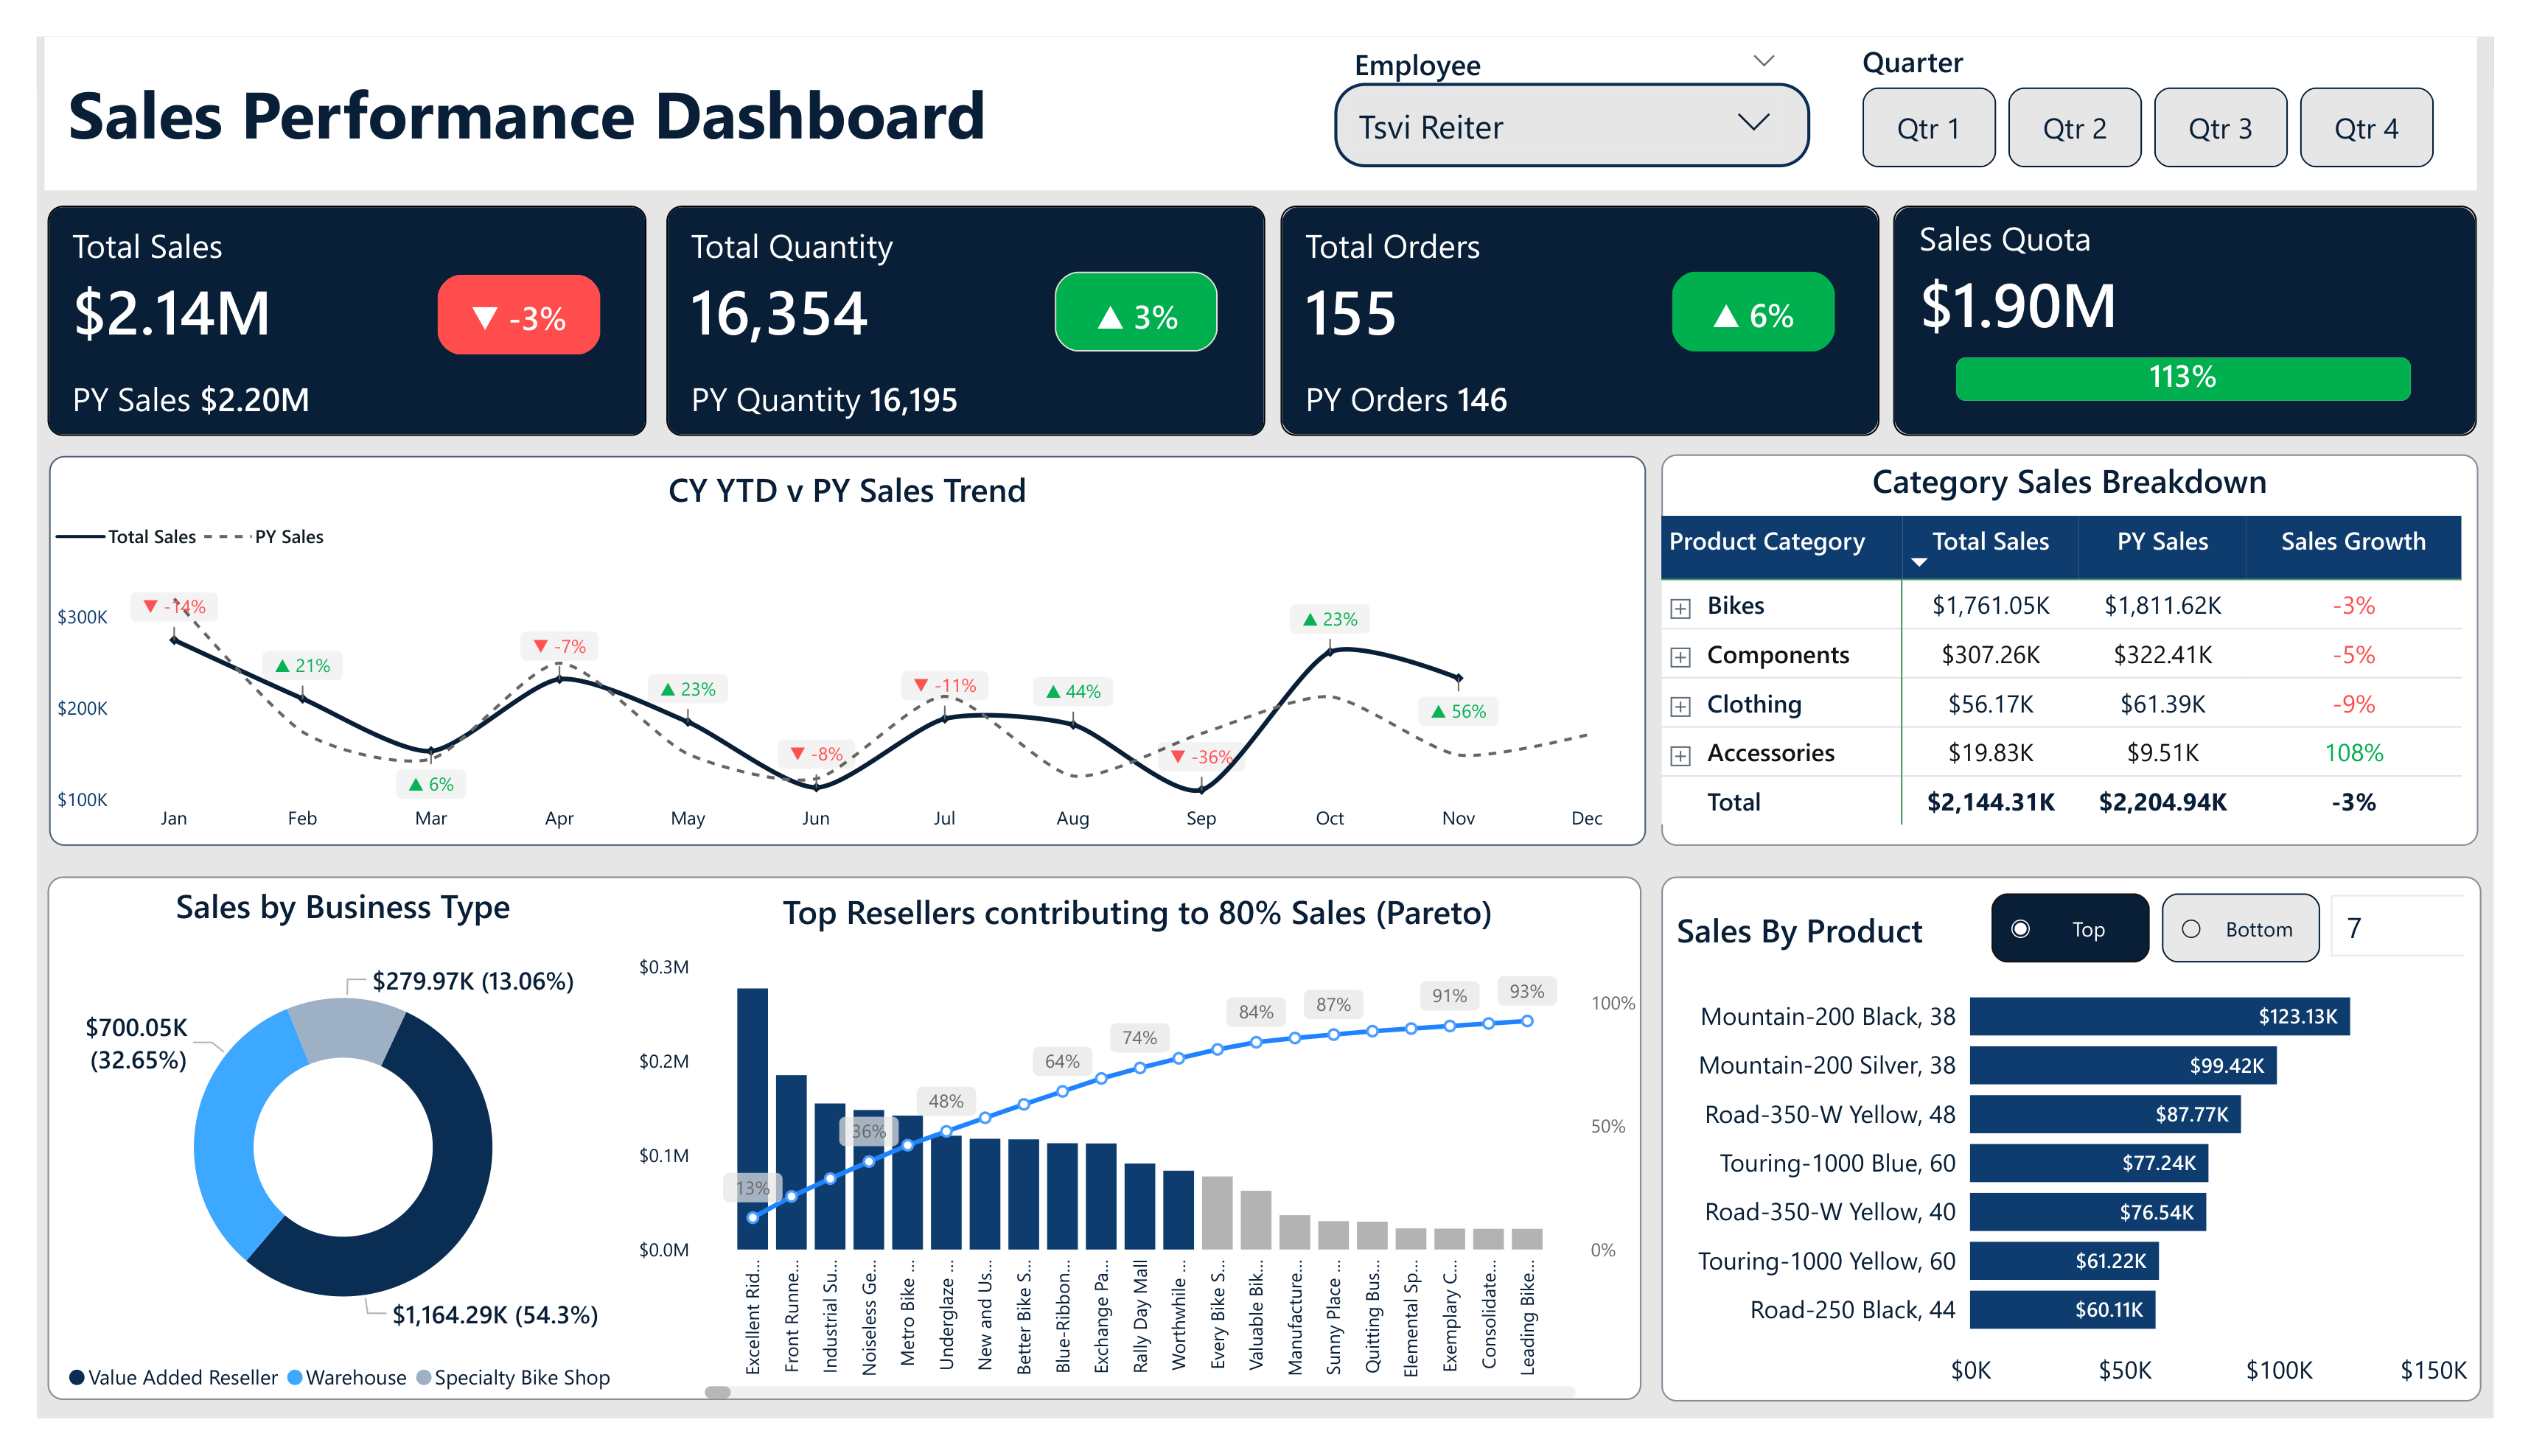

This screenshot's page, from the dashboard's own definition file:
{"tool":"powerbi","page":{"name":"Sales Performance","canvas":[1600,900],"ordinal":0},"visuals":[{"type":"cardVisual","fields":{"Data":["_Measures.Total Sales"]},"box":[6.7,110,390,150],"z":0,"group":"g5"},{"type":"shape","box":[1058,272,531.6,254.5],"z":0,"group":"g2"},{"type":"group","id":"g1","title":"Sales Trend","box":[7.5,272.8,1037.5,255],"z":0},{"type":"shape","box":[7.5,272.8,1040,254.2],"z":0,"group":"g1"},{"type":"shape","box":[6.6,546.6,1038,341.5],"z":0,"group":"g4"},{"type":"shape","box":[1057.9,547.2,534,342],"z":0,"group":"g3"},{"type":"cardVisual","fields":{"Data":["_Measures.Total Orders"]},"box":[810,110,390,150],"z":1000,"group":"g5"},{"type":"group","id":"g2","title":"Category Matrix","box":[1058,272,532,254],"z":1000},{"type":"pivotTable","title":"Category Sales Breakdown","fields":{"Rows":["Dim Product.Product_Category","Dim Product.Product_Subcategory"],"Values":["_Measures.Total Sales","_Measures.PY Sales","_Measures.Sales Growth"]},"box":[1058,274,532,252],"z":1000,"group":"g2"},{"type":"lineChart","title":"CY YTD v PY Sales Trend","fields":{"Category":["Dim Date.Month_Name"],"Y":["_Measures.Total Sales","_Measures.PY Sales"]},"box":[7.5,275.2,1040,251.8],"z":1000,"group":"g1"},{"type":"barChart","title":"Sales By Product","fields":{"Category":["Dim Product.Product_Name"],"Y":["_Measures.Dynamic Ranking"]},"box":[1057.9,547.2,531.5,342],"z":1000,"group":"g3"},{"type":"donutChart","title":"Sales by Business Type","fields":{"Category":["Dim Reseller.BusinessType"],"Y":["_Measures.Total Sales"]},"box":[11.1,549.9,375,341.5],"z":1000,"group":"g4"},{"type":"cardVisual","fields":{"Data":["_Measures.Total Sales Quota"]},"box":[1208.6,110,380,150],"z":2000,"group":"g5"},{"type":"group","id":"g3","title":"Product Top/Bottom","box":[1057.9,547.2,534,342],"z":2000},{"type":"lineClusteredColumnComboChart","title":"Top Resellers contributing to 80% Sales (Pareto)","fields":{"Category":["Dim Reseller.ResellerName"],"Y":["_Measures.Total Sales"],"Y2":["_Measures.Cumulative Sales %"]},"box":[386.6,549.1,660,342.5],"z":2000,"group":"g4"},{"type":"slicer","fields":{"Values":["Ranking Option.Ranking Option"]},"box":[1485.7,554.2,95,80],"z":2000,"group":"g3"},{"type":"cardVisual","fields":{"Data":["_Measures.Total Quantity"]},"box":[410,110,390,150],"z":3000,"group":"g5"},{"type":"group","id":"g4","title":"Reseller Charts","box":[6.6,546.6,1040,345],"z":3000},{"type":"advancedSlicerVisual","fields":{"Values":["Top/Bottom.Value"]},"box":[1272.9,558.4,220,45],"z":3000,"group":"g3"},{"type":"group","id":"g5","title":"Cards","box":[6.7,110,1581.9,150],"z":3500},{"type":"textbox","box":[5,0,1583.8,100],"z":4000},{"type":"cardVisual","fields":{"Data":["_Measures.Quantity Growth Label"]},"box":[646,136,140,86],"z":4000,"group":"g5"},{"type":"shape","box":[845,30,310,55],"z":5000},{"type":"cardVisual","fields":{"Data":["_Measures.Sales Growth Label"]},"box":[244,138,140,86],"z":5000,"group":"g5"},{"type":"advancedSlicerVisual","fields":{"Values":["Dim Date.Calendar.Variation.Date Hierarchy.Quarter"]},"box":[1183.8,2.5,383.8,87.5],"z":6000},{"type":"cardVisual","fields":{"Data":["_Measures.Orders Growth Label"]},"box":[1048,136,140,86],"z":6000,"group":"g5"},{"type":"slicer","fields":{"Values":["Dim Employee.Employee_Name"]},"box":[845,5,300,72.5],"z":7000}]}

Visuals, with their boxes on the page's 1600x900 design canvas (x1, y1, x2, y2). These are canvas units, not pixel positions in the 2531x1456 screenshot, which may show the page scaled, cropped or inside an application window:
cardVisual - _Measures.Total Sales: (7, 110, 397, 260)
shape: (1058, 272, 1590, 526)
"Sales Trend" group: (8, 273, 1045, 528)
shape: (8, 273, 1048, 527)
shape: (7, 547, 1045, 888)
shape: (1058, 547, 1592, 889)
cardVisual - _Measures.Total Orders: (810, 110, 1200, 260)
"Category Matrix" group: (1058, 272, 1590, 526)
"Category Sales Breakdown" pivotTable: (1058, 274, 1590, 526)
"CY YTD v PY Sales Trend" lineChart: (8, 275, 1048, 527)
"Sales By Product" barChart: (1058, 547, 1589, 889)
"Sales by Business Type" donutChart: (11, 550, 386, 891)
cardVisual - _Measures.Total Sales Quota: (1209, 110, 1589, 260)
"Product Top/Bottom" group: (1058, 547, 1592, 889)
"Top Resellers contributing to 80% Sales (Pareto)" lineClusteredColumnComboChart: (387, 549, 1047, 892)
slicer - Ranking Option.Ranking Option: (1486, 554, 1581, 634)
cardVisual - _Measures.Total Quantity: (410, 110, 800, 260)
"Reseller Charts" group: (7, 547, 1047, 892)
advancedSlicerVisual - Top/Bottom.Value: (1273, 558, 1493, 603)
"Cards" group: (7, 110, 1589, 260)
textbox: (5, 0, 1589, 100)
cardVisual - _Measures.Quantity Growth Label: (646, 136, 786, 222)
shape: (845, 30, 1155, 85)
cardVisual - _Measures.Sales Growth Label: (244, 138, 384, 224)
advancedSlicerVisual - Dim Date.Calendar.Variation.Date Hierarchy.Quarter: (1184, 2, 1568, 90)
cardVisual - _Measures.Orders Growth Label: (1048, 136, 1188, 222)
slicer - Dim Employee.Employee_Name: (845, 5, 1145, 78)
